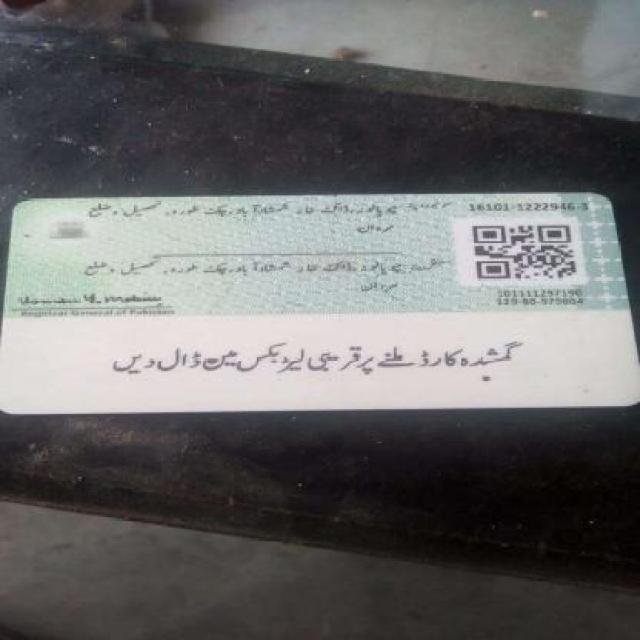Back: (3, 189, 637, 411)
